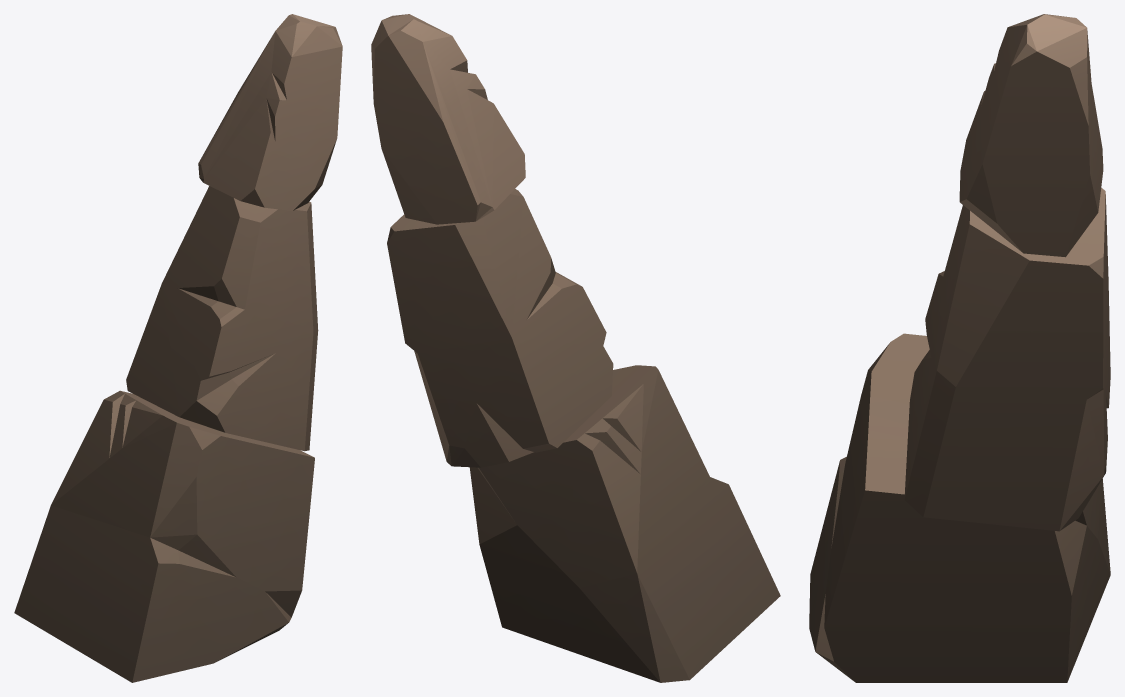
Rendered from Rock_Sharp_2A.fbx.
3 renders of one model, left to right at view 1: azimuth 30°, elevation 25°; view 2: azimuth 150°, elevation 25°; view 3: azimuth 270°, elevation 25°, orthographic. The views are drawn at different scales.
Visible parts, largest first — view 1: Rock_Sharp_2A; view 2: Rock_Sharp_2A; view 3: Rock_Sharp_2A.
Boxes of the visible parts, x1=… form: Rock_Sharp_2A: x1=14, y1=14, x2=342, y2=682; Rock_Sharp_2A: x1=371, y1=14, x2=780, y2=682; Rock_Sharp_2A: x1=809, y1=14, x2=1110, y2=682.
Bounding box in the file's own units: 4.67 × 7.88 × 2.96.
